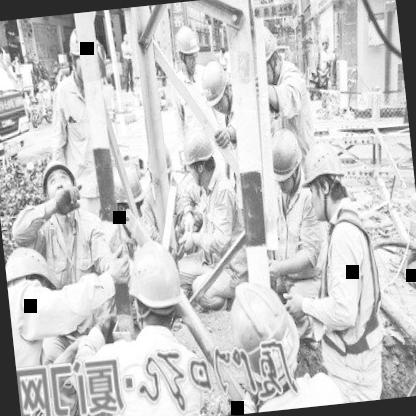helmet: (221, 273, 306, 402), (125, 234, 188, 332), (298, 137, 354, 224), (3, 242, 62, 321), (98, 154, 148, 236), (177, 123, 221, 195), (264, 127, 306, 196), (198, 54, 235, 121), (64, 22, 99, 91), (35, 156, 78, 208), (256, 26, 286, 87), (172, 21, 202, 74)
